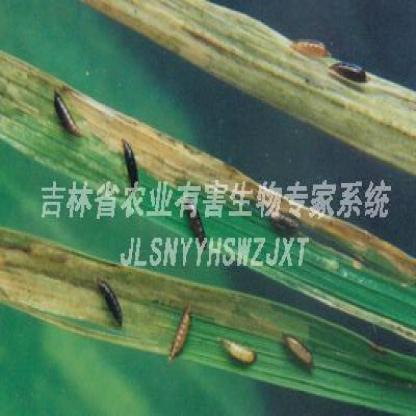whorl-maggot: (213, 326, 268, 372), (166, 295, 198, 373), (48, 86, 86, 144), (90, 272, 125, 334), (274, 328, 316, 372), (323, 48, 373, 84), (112, 132, 140, 180), (288, 32, 329, 62)
